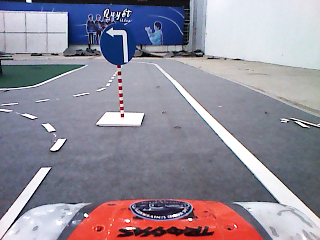turn: (100, 23, 137, 66)
